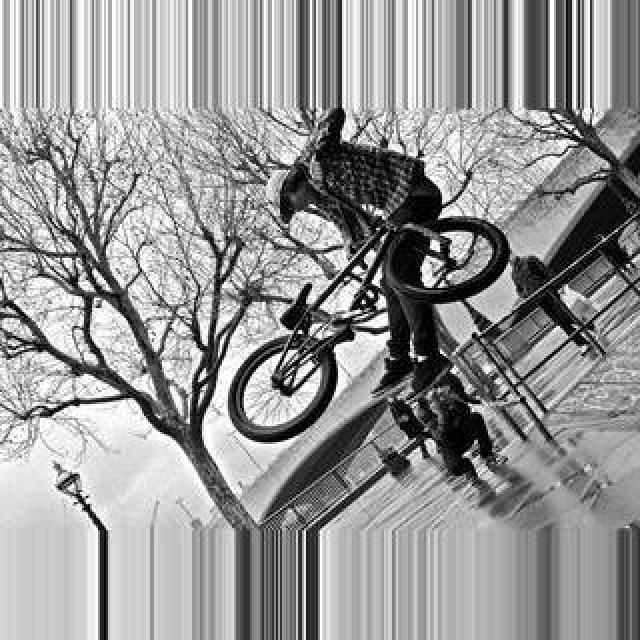MC-Bike: (396, 372, 520, 510)
Person: (234, 114, 498, 422)
